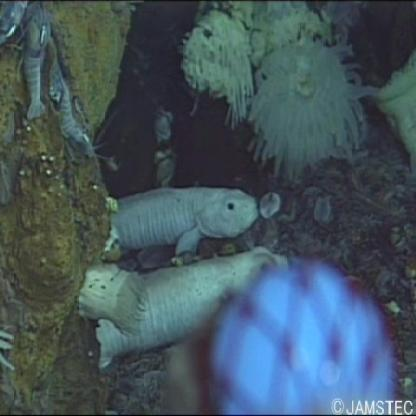Bio: (75, 184, 292, 371), (1, 2, 114, 166)
